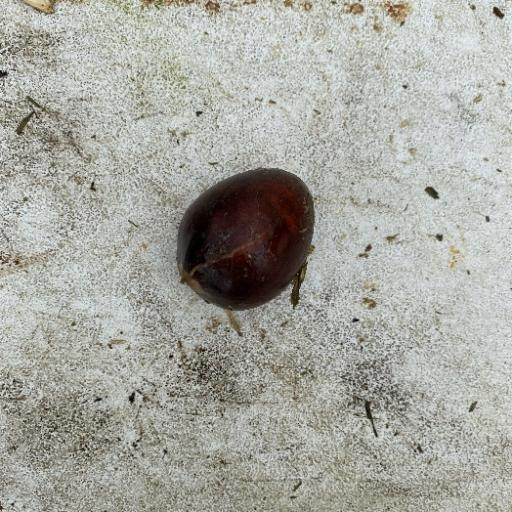Waste: (174, 166, 316, 313)
